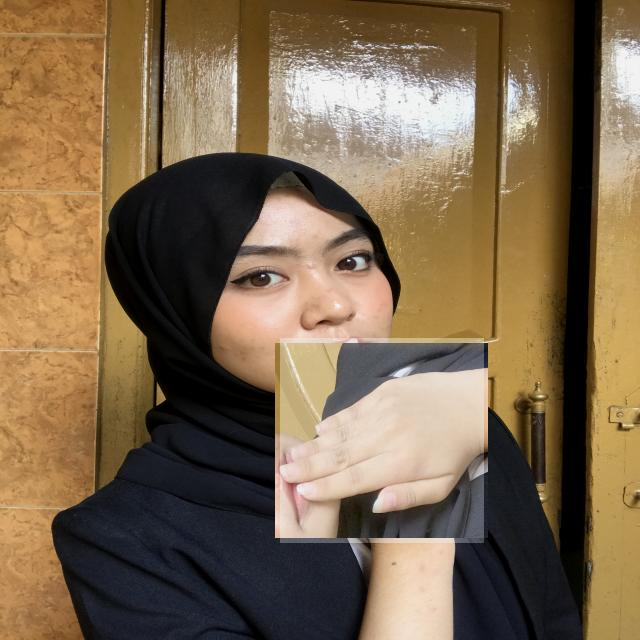ganteng: (280, 338, 484, 543)
